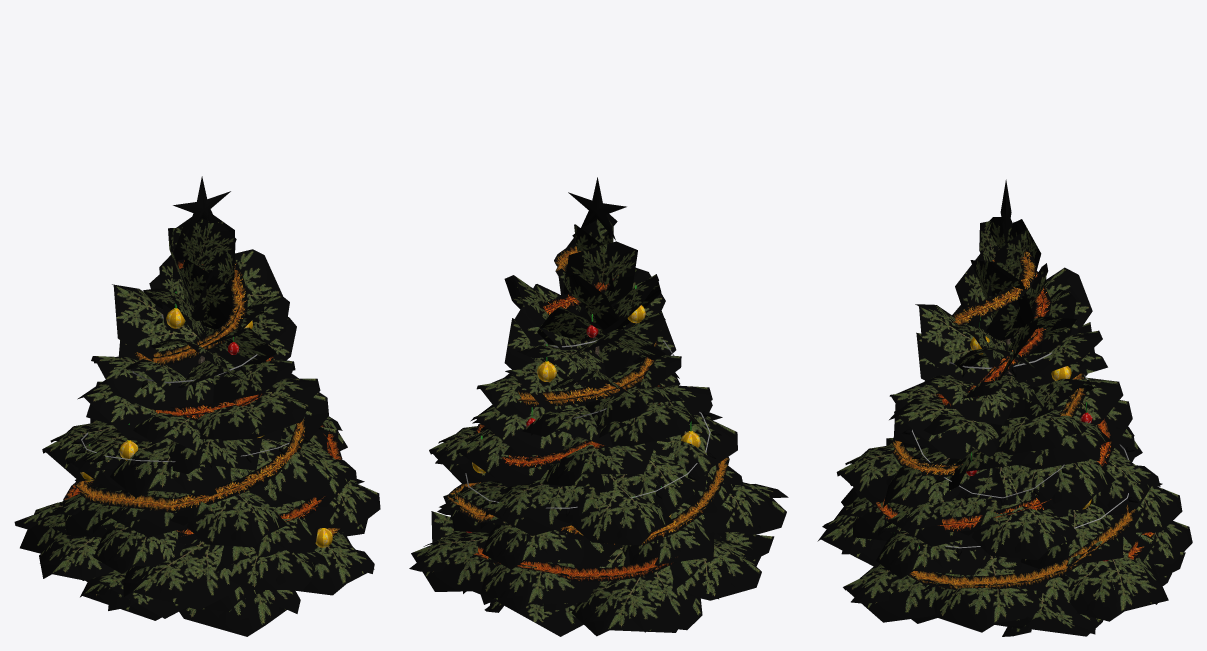
Rendered from Christmas_Tree.fbx.
3 views of the same model, side by side, from view 1: azimuth 30°, elevation 25°; view 2: azimuth 150°, elevation 25°; view 3: azimuth 270°, elevation 25° (orthographic). The views are drawn at different scales.
Parts seen in each view (by area): view 1: TreeBranches_A, TreeBranches_B, Tinsel, Baubals, Star; view 2: TreeBranches_A, TreeBranches_B, Tinsel, Baubals, Star; view 3: TreeBranches_A, TreeBranches_B, Tinsel, Lights_Cord, Baubals.
Boxes of the visible parts, x1=… form: TreeBranches_A: x1=14, y1=210, x2=380, y2=636; TreeBranches_B: x1=15, y1=214, x2=379, y2=636; Tinsel: x1=63, y1=259, x2=342, y2=539; Baubals: x1=80, y1=291, x2=355, y2=547; Star: x1=173, y1=176, x2=230, y2=238; TreeBranches_A: x1=409, y1=214, x2=788, y2=636; TreeBranches_B: x1=411, y1=214, x2=786, y2=635; Tinsel: x1=446, y1=244, x2=729, y2=581; Baubals: x1=466, y1=285, x2=700, y2=532; Star: x1=568, y1=177, x2=626, y2=240; TreeBranches_A: x1=817, y1=217, x2=1192, y2=636; TreeBranches_B: x1=822, y1=217, x2=1191, y2=636; Tinsel: x1=875, y1=248, x2=1154, y2=589; Lights_Cord: x1=912, y1=352, x2=1129, y2=548; Baubals: x1=919, y1=317, x2=1108, y2=561.
Bounding box in the file's own units: 340 × 594 × 343.
Materials: 9 (6 with a texture image).
